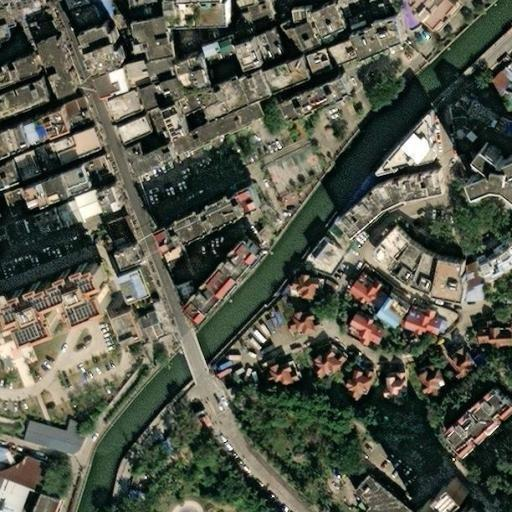building: (377, 233, 512, 307), (8, 264, 120, 342), (184, 238, 266, 326), (328, 172, 435, 238), (149, 183, 251, 247), (432, 382, 502, 450), (368, 109, 431, 171), (457, 144, 512, 199), (328, 173, 386, 223), (34, 36, 77, 96), (0, 456, 44, 512), (408, 475, 472, 512), (158, 242, 194, 307), (443, 100, 482, 160), (16, 420, 76, 456), (79, 25, 122, 74), (277, 63, 322, 103), (341, 272, 384, 312), (353, 478, 401, 512), (37, 129, 83, 164), (193, 10, 247, 38), (306, 346, 344, 385), (341, 313, 381, 348), (410, 361, 445, 400), (0, 52, 39, 87), (55, 191, 95, 225), (253, 363, 294, 396), (297, 235, 333, 271), (132, 300, 166, 338), (445, 345, 477, 385), (230, 85, 264, 122), (336, 366, 369, 404), (254, 78, 288, 113), (191, 66, 223, 102), (280, 310, 316, 341), (459, 102, 496, 132), (146, 25, 185, 53), (400, 310, 438, 338), (2, 187, 34, 220), (373, 21, 404, 55), (209, 44, 244, 74), (280, 23, 308, 60), (166, 117, 194, 153), (473, 320, 510, 347), (262, 34, 293, 66), (92, 65, 125, 94), (140, 90, 174, 118), (120, 122, 154, 150), (16, 140, 45, 172), (95, 86, 127, 115), (103, 218, 132, 250), (281, 277, 318, 302), (28, 114, 58, 144), (379, 301, 409, 331), (353, 31, 382, 62), (32, 208, 64, 236), (254, 49, 282, 80), (217, 94, 241, 130), (170, 83, 195, 117), (0, 27, 25, 60), (154, 46, 188, 70), (329, 44, 359, 71), (299, 26, 326, 56), (11, 216, 39, 244), (24, 178, 53, 205), (156, 65, 187, 89), (477, 70, 504, 97), (379, 371, 401, 403), (65, 163, 92, 189), (9, 122, 35, 148), (46, 172, 73, 197), (312, 56, 337, 83), (69, 6, 93, 33), (84, 156, 109, 179), (489, 118, 512, 142), (108, 192, 130, 217), (467, 351, 488, 374), (35, 496, 62, 512), (128, 253, 149, 273), (85, 2, 104, 22), (287, 8, 307, 22), (0, 225, 10, 251), (57, 419, 73, 434), (472, 238, 488, 249), (493, 92, 505, 104), (252, 229, 263, 241), (448, 210, 458, 222)
